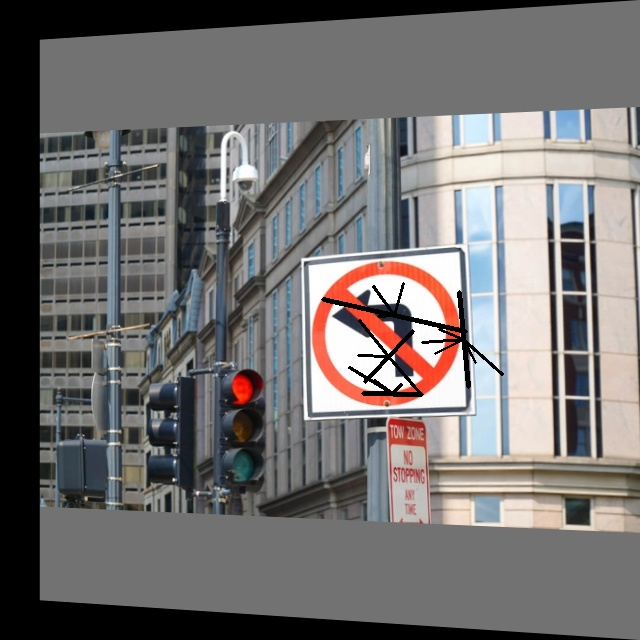Left_Turn_Prohibited: (303, 255, 475, 414)
